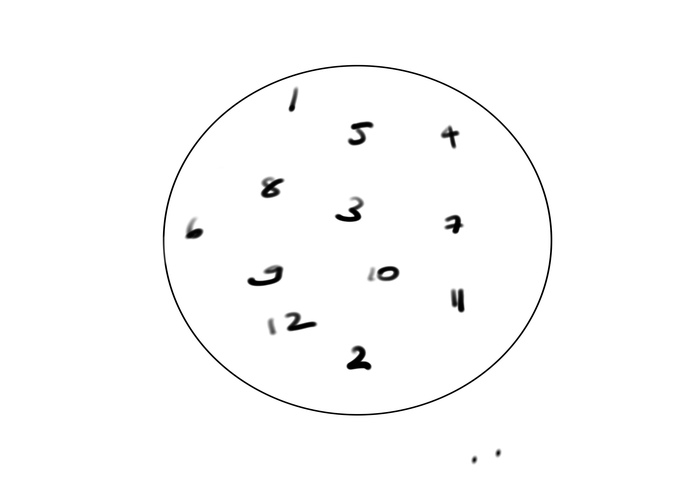eight: (260, 173, 285, 204)
eleven: (445, 285, 469, 312)
five: (345, 116, 373, 148)
four: (438, 120, 464, 151)
nine: (243, 253, 288, 289)
one: (287, 87, 303, 114)
seven: (443, 210, 465, 241)
six: (178, 216, 209, 242)
ten: (364, 265, 404, 285)
three: (330, 193, 366, 226)
twelve: (259, 307, 326, 336)
two: (343, 340, 376, 380)
